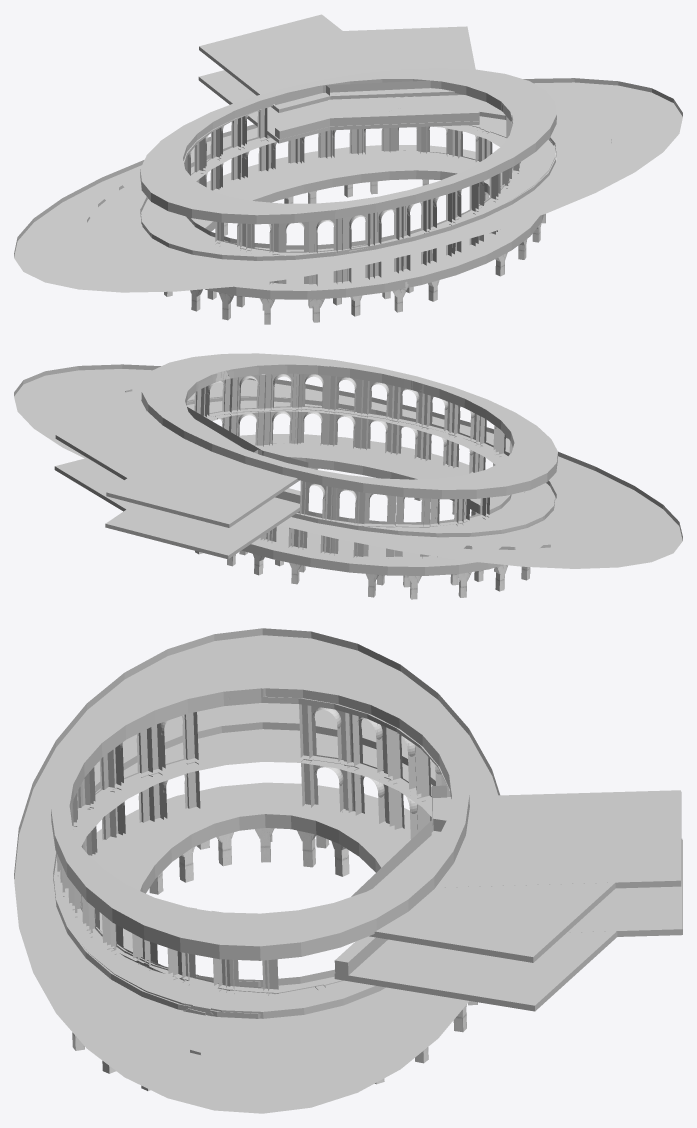
Rendered from museo3.glb.
3 renders of one model, top to bottom at view 1: azimuth 30°, elevation 25°; view 2: azimuth 150°, elevation 25°; view 3: azimuth 270°, elevation 25°, orthographic. The views are drawn at different scales.
Parts seen in each view (by area): view 1: Plane.001; view 2: Plane.001; view 3: Plane.001.
Boxes of the visible parts, <box> form: Plane.001: <box>14,14,682,324</box>; Plane.001: <box>14,353,682,599</box>; Plane.001: <box>14,628,682,1113</box>.
Bounding box in the file's own units: 94.04 × 16.73 × 53.79.
2 materials, 2 textured.
